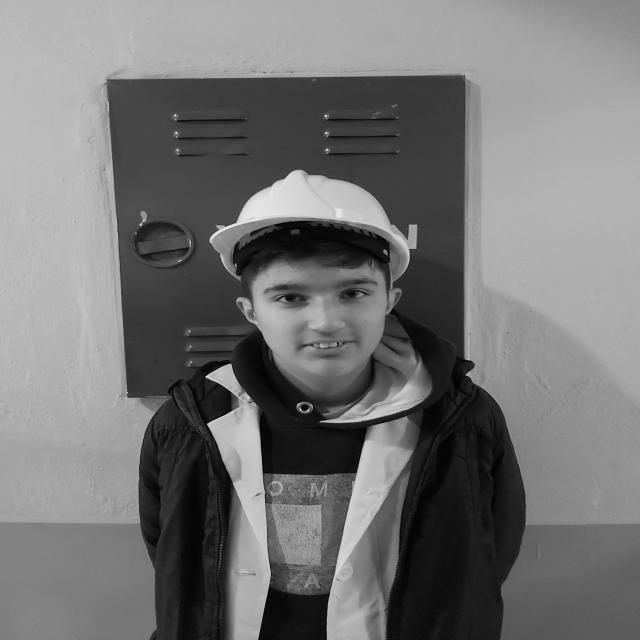safety_helmet: (220, 172, 415, 285)
